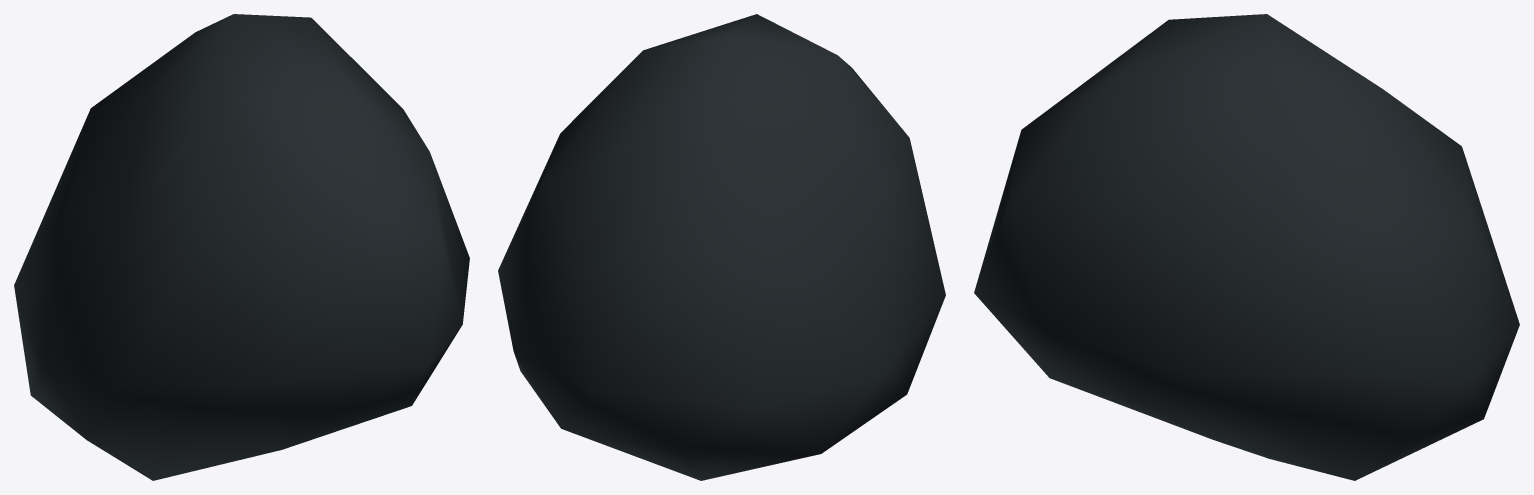
The model's file is ch1_rock.fbx.
3 renders of one model, left to right at view 1: azimuth 30°, elevation 25°; view 2: azimuth 150°, elevation 25°; view 3: azimuth 270°, elevation 25°, orthographic. The views are drawn at different scales.
Visible parts, largest first — view 1: Icosphere; view 2: Icosphere; view 3: Icosphere.
Boxes of the visible parts, x1,y1,x2,y2 form: Icosphere: (14,14,469,480); Icosphere: (498,14,945,480); Icosphere: (974,14,1519,480).
Size of the model in its own units: 7.81 by 8.76 by 9.78.
